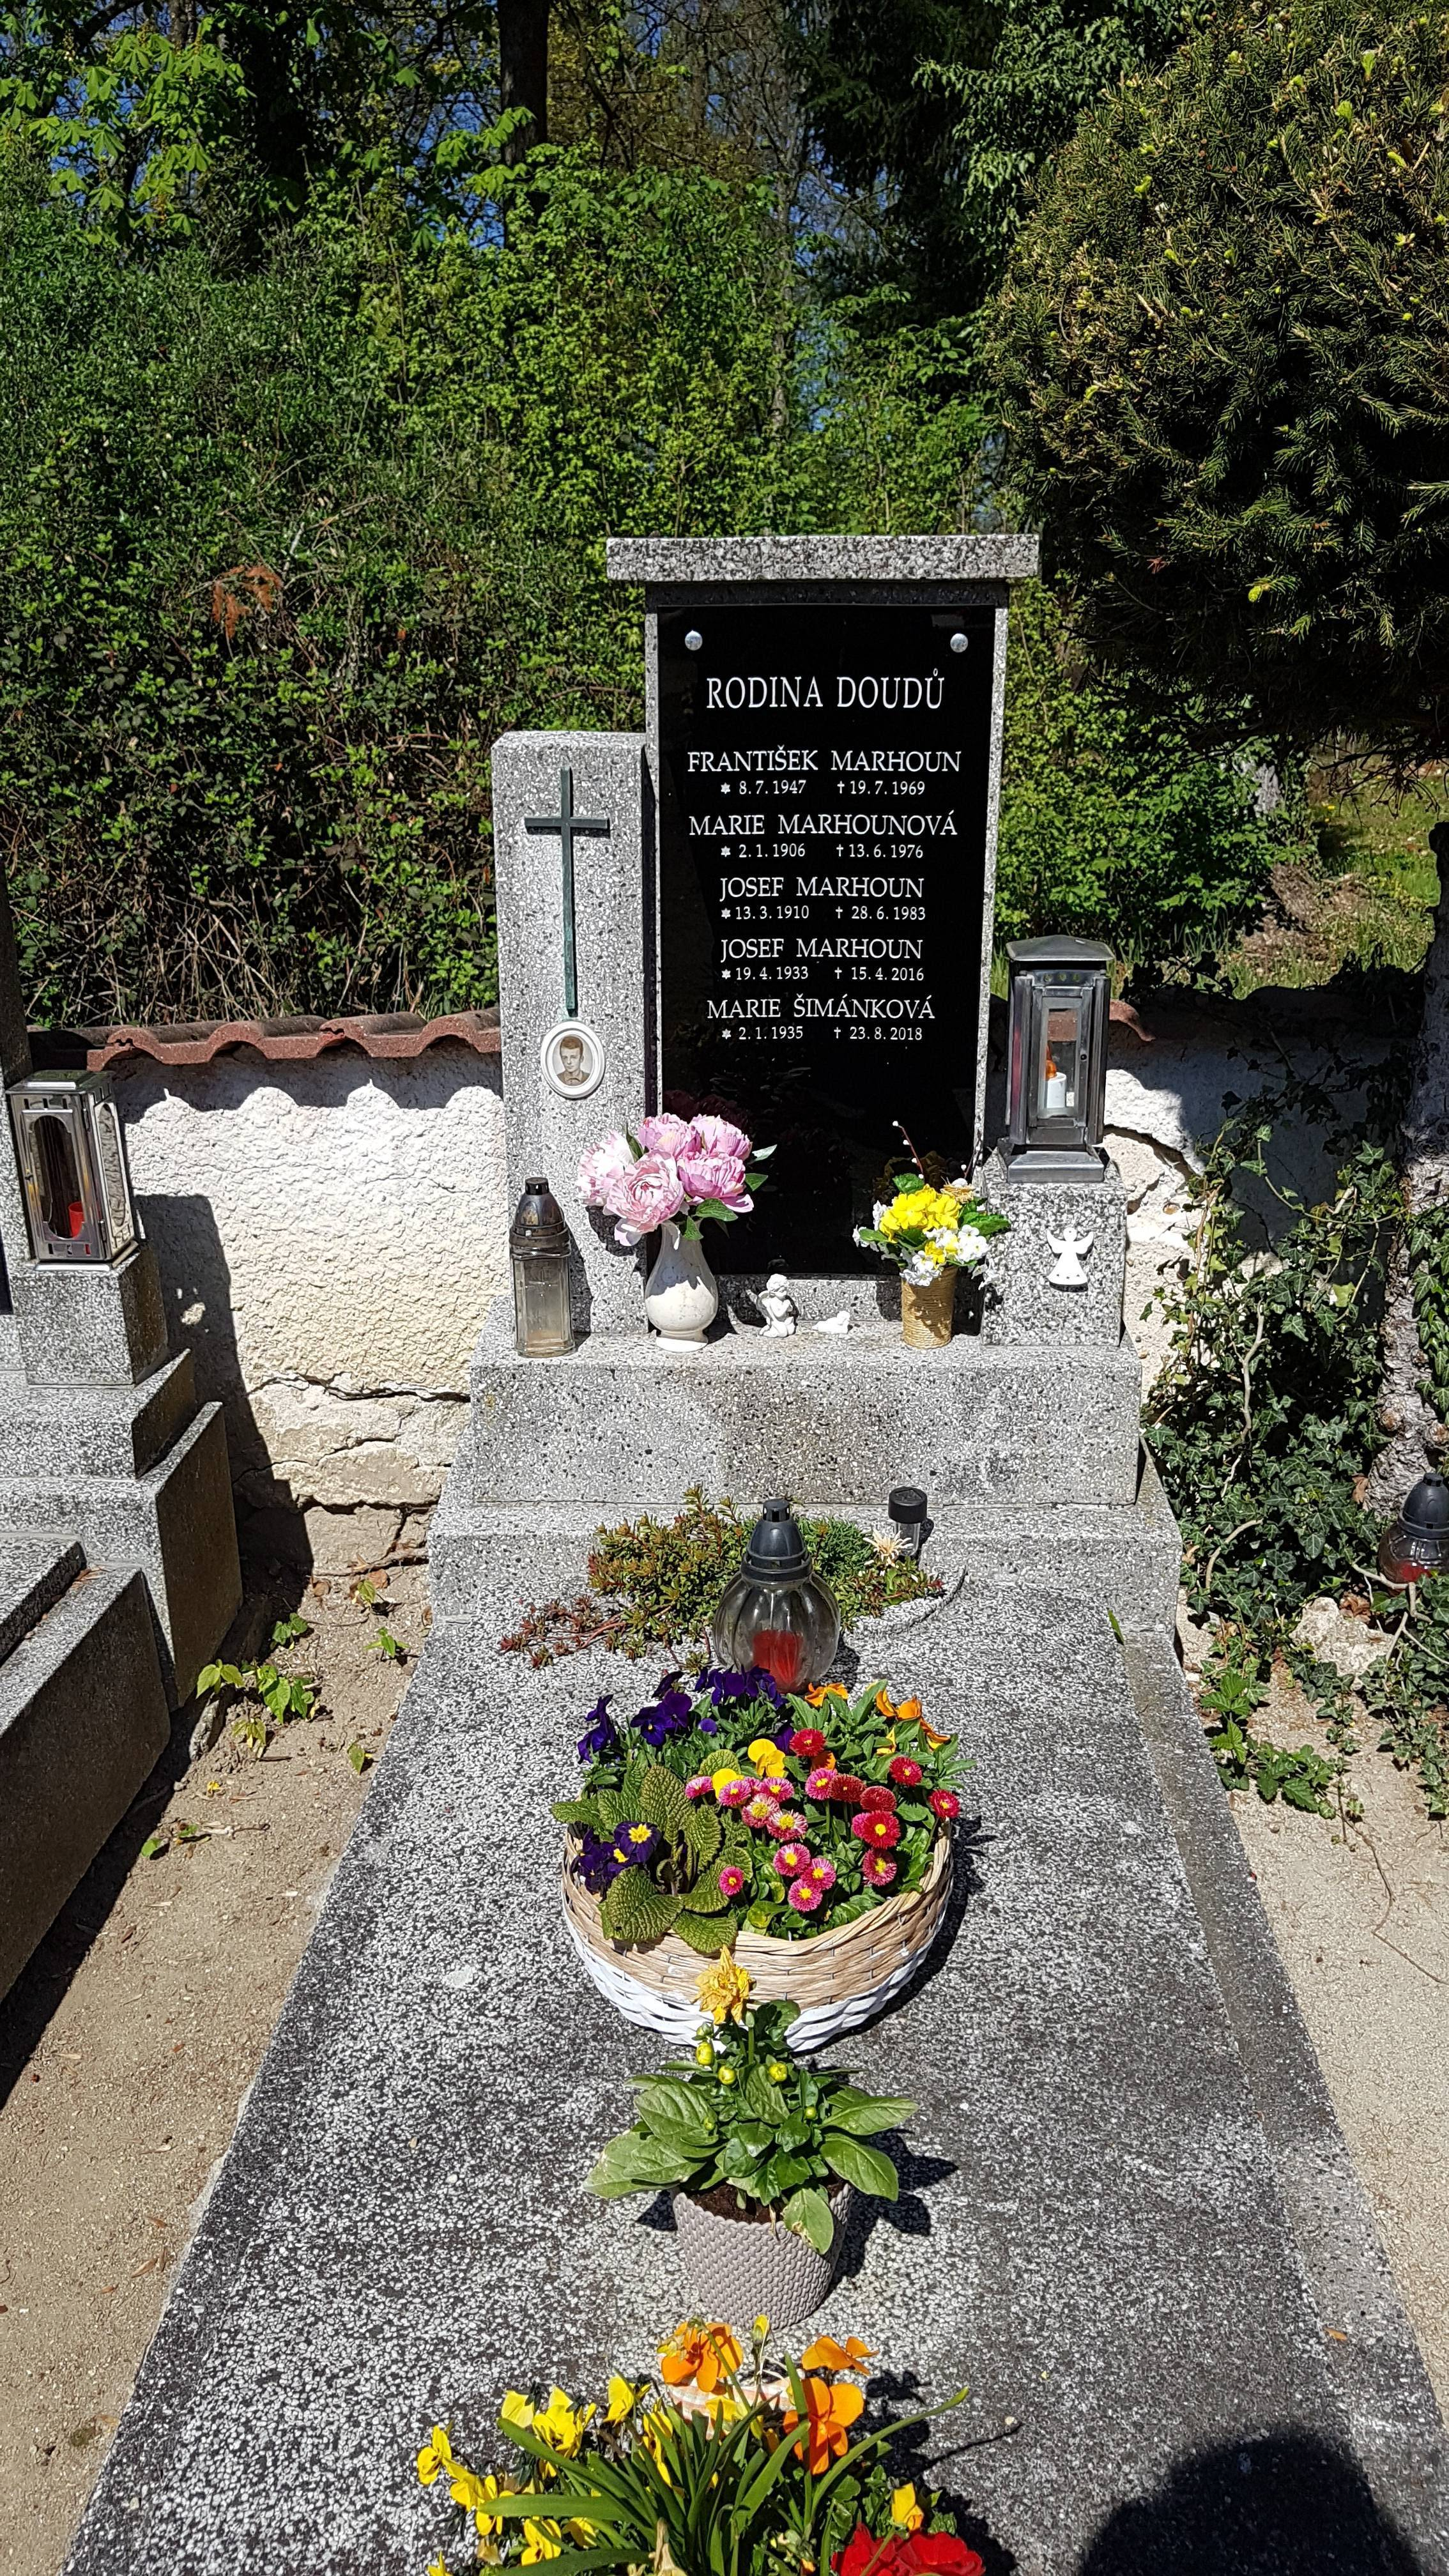vault: (81, 522, 1447, 2576)
